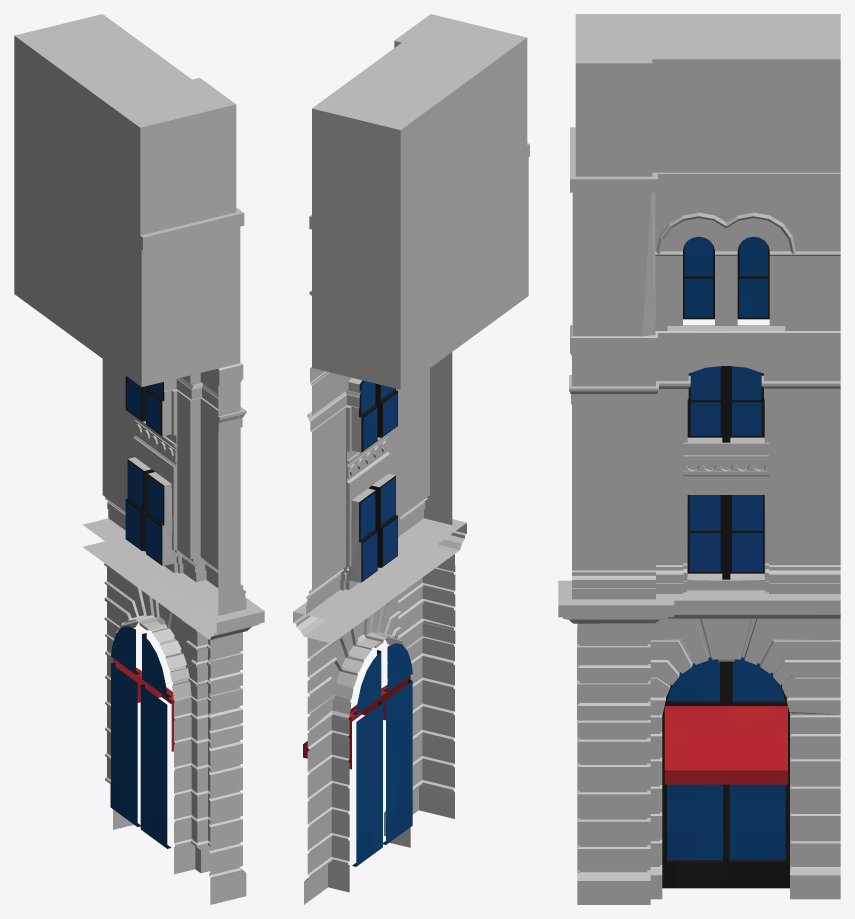
Rendered from Building_Brick04.fbx.
3 views of the same model, side by side, from view 1: azimuth 30°, elevation 25°; view 2: azimuth 150°, elevation 25°; view 3: azimuth 270°, elevation 25° (orthographic). The views are drawn at different scales.
Visible parts, largest first — view 1: SM_City_Building_Brick_02b.mo; view 2: SM_City_Building_Brick_02b.mo; view 3: SM_City_Building_Brick_02b.mo.
Boxes of the visible parts, <box> form: SM_City_Building_Brick_02b.mo: <box>14,14,264,904</box>; SM_City_Building_Brick_02b.mo: <box>293,14,529,904</box>; SM_City_Building_Brick_02b.mo: <box>558,14,840,904</box>.
Bounding box in the file's own units: 294 × 1829 × 560.
